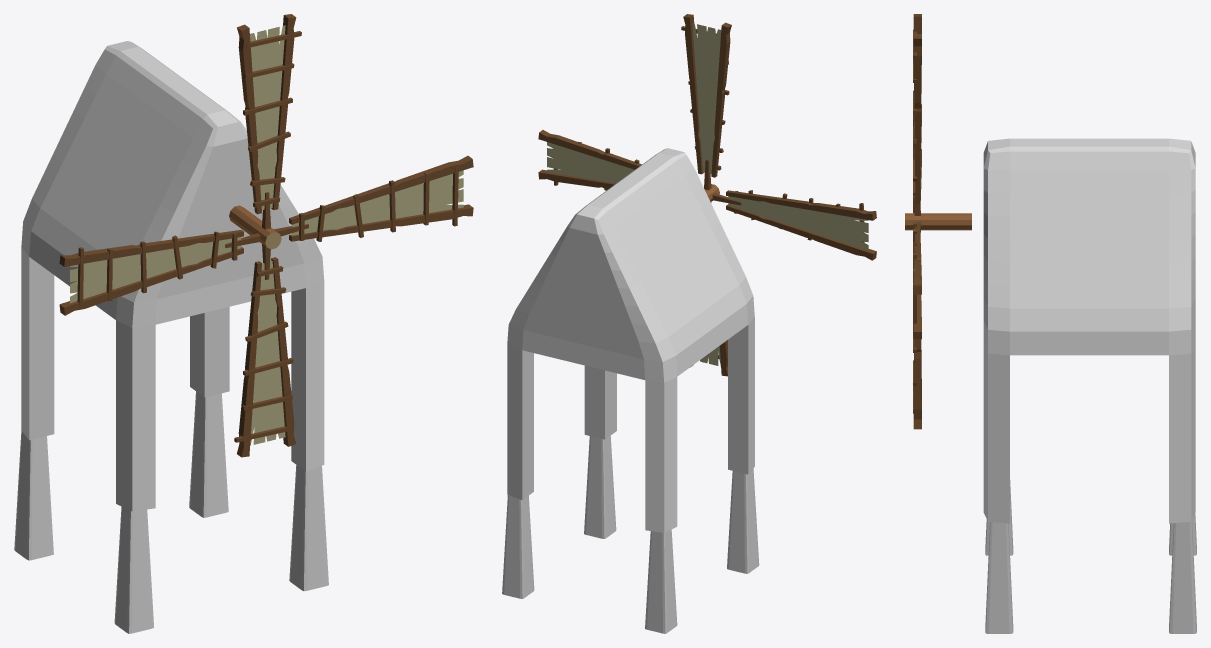
The model's file is windmill2.fbx.
3 renders of one model, left to right at view 1: azimuth 30°, elevation 25°; view 2: azimuth 150°, elevation 25°; view 3: azimuth 270°, elevation 25°, orthographic. The views are drawn at different scales.
Visible parts, largest first — view 1: Cube.001, Mill_Blades; view 2: Cube.001, Mill_Blades; view 3: Cube.001, Mill_Blades.
Part boxes in pixels (left/top/right/bottom): Cube.001: left=14, top=41, right=328, bottom=633; Mill_Blades: left=59, top=14, right=473, bottom=457; Cube.001: left=502, top=148, right=759, bottom=633; Mill_Blades: left=538, top=14, right=876, bottom=376; Cube.001: left=983, top=138, right=1196, bottom=633; Mill_Blades: left=905, top=14, right=971, bottom=429.
Bounding box in the file's own units: 11306 × 16791 × 24110.
